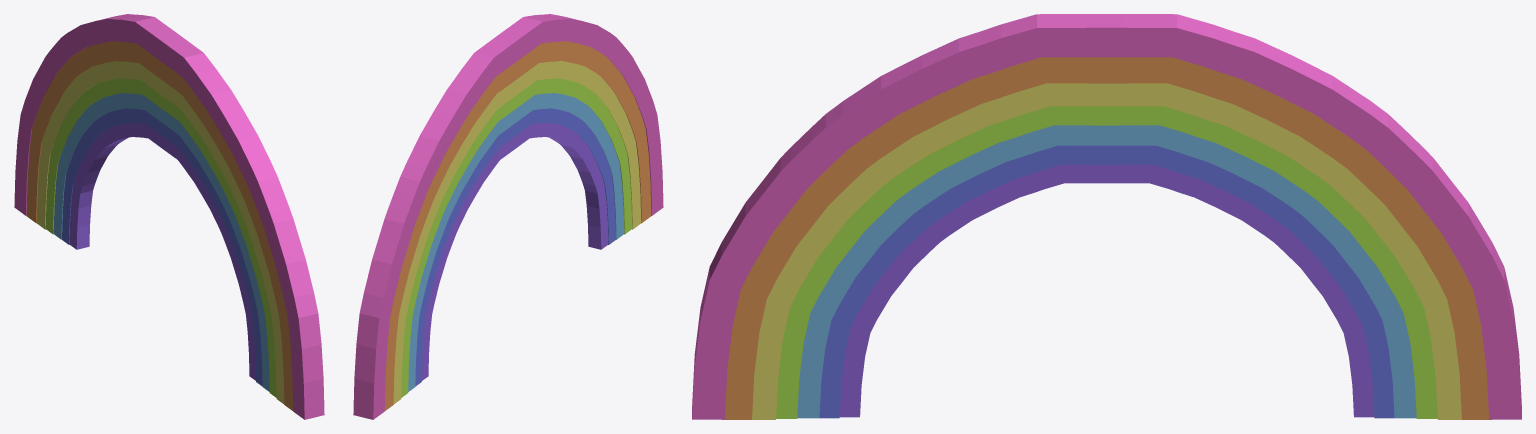
File: rainbow.fbx
3 renders of one model, left to right at view 1: azimuth 30°, elevation 25°; view 2: azimuth 150°, elevation 25°; view 3: azimuth 270°, elevation 25°, orthographic. The views are drawn at different scales.
Parts seen in each view (by area): view 1: Pink, Orange, Yellow, Purple, Green, Blue, Dark Blue; view 2: Pink, Orange, Yellow, Purple, Green, Blue, Dark Blue; view 3: Pink, Orange, Yellow, Green, Blue, Dark Blue, Purple.
Part boxes in pixels (x1,y1,x2,y2): Pink: (14,14,324,419); Orange: (26,41,293,410); Yellow: (36,61,284,404); Purple: (69,123,255,380); Green: (45,78,276,397); Blue: (53,93,269,391); Dark Blue: (62,108,262,386); Pink: (353,14,663,419); Orange: (384,41,651,410); Yellow: (393,61,641,404); Purple: (422,123,608,380); Green: (401,78,632,397); Blue: (408,93,624,391); Dark Blue: (415,108,615,386); Pink: (692,14,1521,419); Orange: (722,57,1491,419); Yellow: (752,83,1461,419); Green: (776,106,1437,418); Blue: (797,125,1416,418); Dark Blue: (819,145,1394,418); Purple: (839,164,1374,417).
Size of the model in its own units: 53.92 by 715 by 1368.
